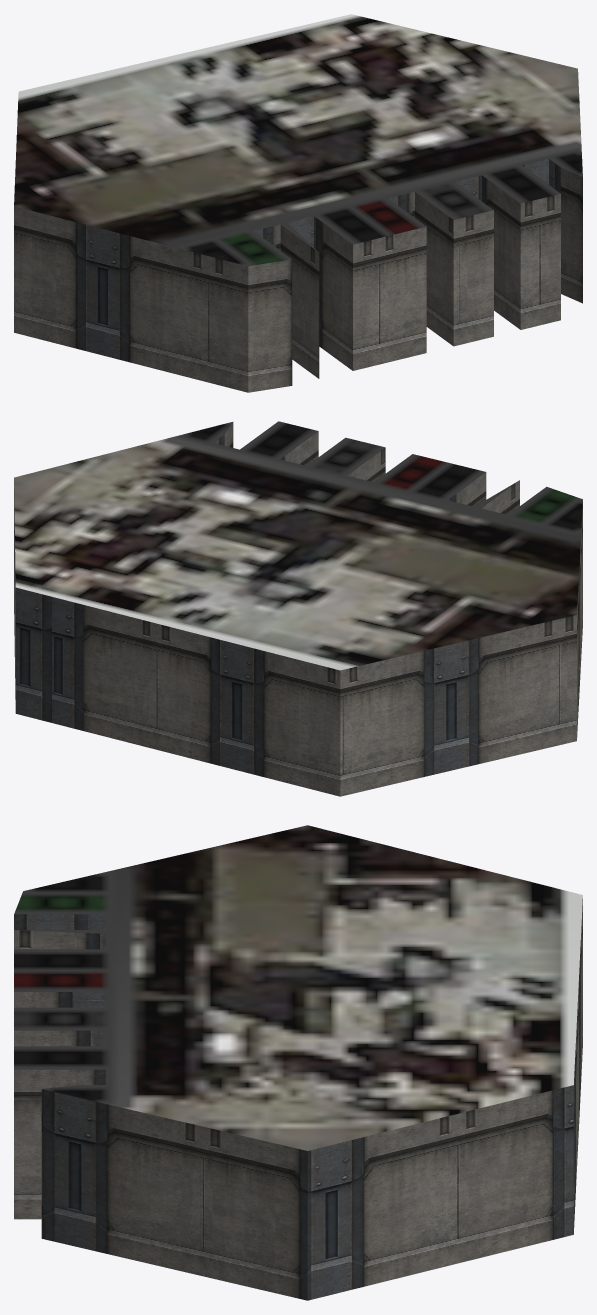
File: BuildingSystem-03-Advance-03-Heavy-7-89-03.glb
3 renders of one model, top to bottom at view 1: azimuth 30°, elevation 25°; view 2: azimuth 150°, elevation 25°; view 3: azimuth 270°, elevation 25°, orthographic. The views are drawn at different scales.
Parts seen in each view (by area): view 1: buildings/saxarba/SMV_Buildings/BuildingSystem-03-Advance-03; view 2: buildings/saxarba/SMV_Buildings/BuildingSystem-03-Advance-03; view 3: buildings/saxarba/SMV_Buildings/BuildingSystem-03-Advance-03.
Part boxes in pixels (x1,y1,x2,y2): buildings/saxarba/SMV_Buildings/BuildingSystem-03-Advance-03: (14, 14, 582, 392); buildings/saxarba/SMV_Buildings/BuildingSystem-03-Advance-03: (14, 421, 582, 796); buildings/saxarba/SMV_Buildings/BuildingSystem-03-Advance-03: (14, 825, 582, 1300).
Size of the model in its own units: 84 by 18 by 62.
